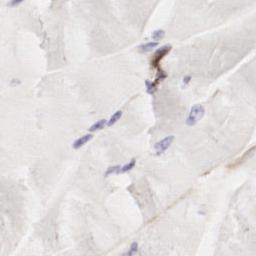nucleus: (153, 135, 175, 155), (187, 103, 206, 125), (72, 133, 94, 148), (87, 118, 108, 131), (108, 110, 124, 126), (179, 75, 195, 88), (121, 159, 136, 172), (150, 27, 165, 38), (139, 42, 159, 50), (126, 242, 138, 255), (105, 165, 120, 175), (8, 1, 24, 8), (157, 43, 172, 49), (146, 80, 152, 93), (161, 73, 165, 79)
positive_cell: (150, 41, 173, 66), (146, 79, 159, 93), (156, 68, 168, 83)
